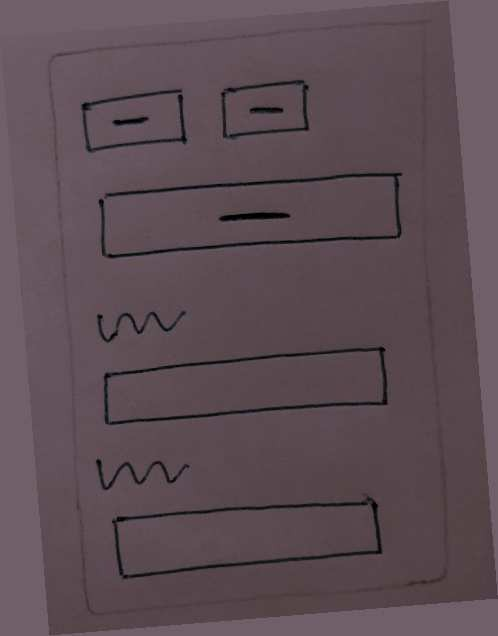button: (89, 159, 413, 281), (75, 81, 202, 168), (209, 73, 320, 155)
text: (93, 445, 198, 506), (89, 295, 196, 352)
text_input: (97, 338, 397, 437), (107, 491, 385, 589)
